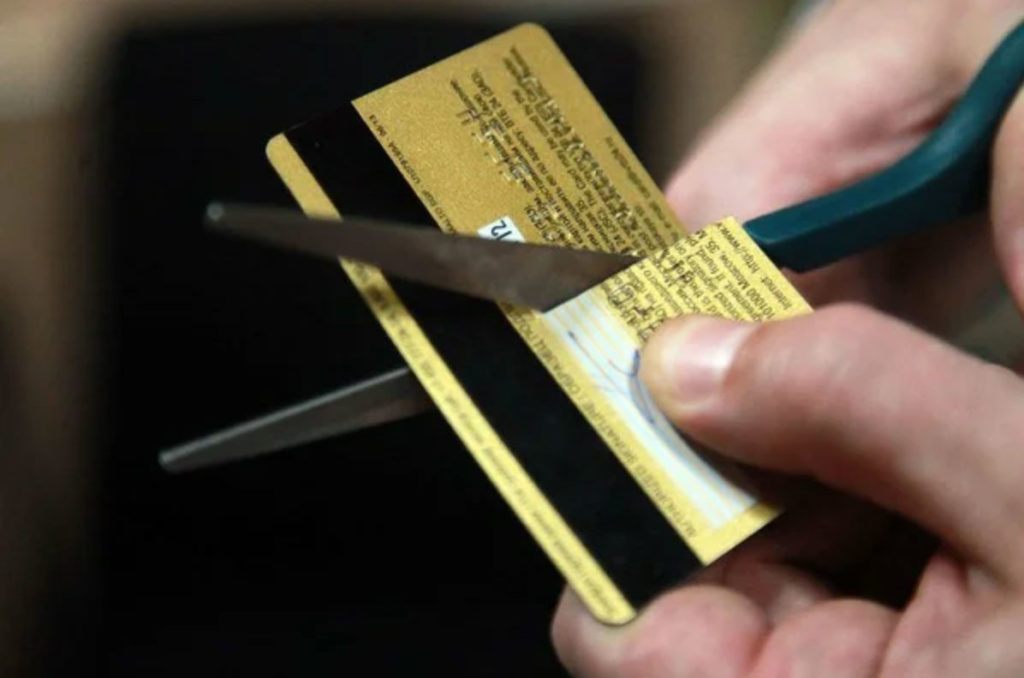card: (262, 21, 807, 625)
